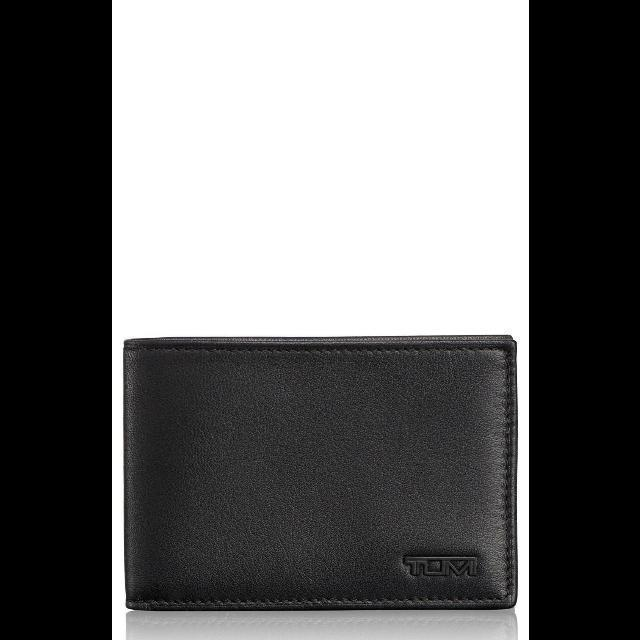wallet: (115, 331, 515, 615)
